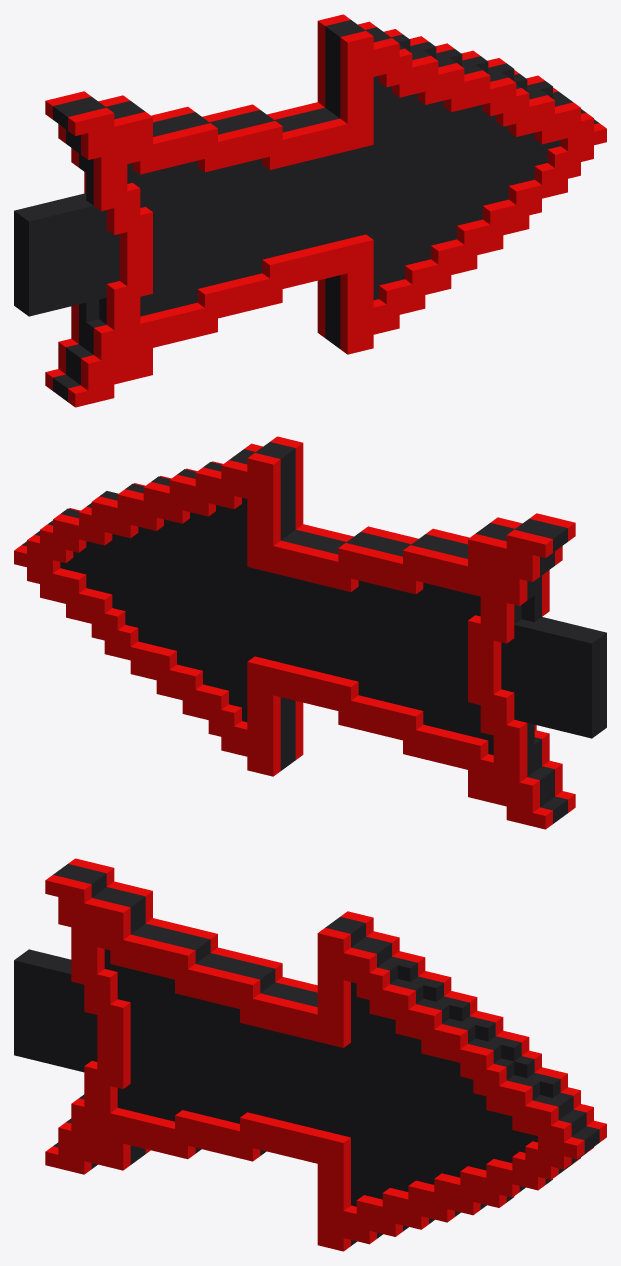
File: Signborad_005.obj
The picture shows the model from 3 angles, top to bottom: view 1: azimuth 30°, elevation 25°; view 2: azimuth 150°, elevation 25°; view 3: azimuth 330°, elevation 25°; orthographic projection.
Bounding box in the file's own units: 4.4 × 2.3 × 0.4.
1 material, 1 textured.
